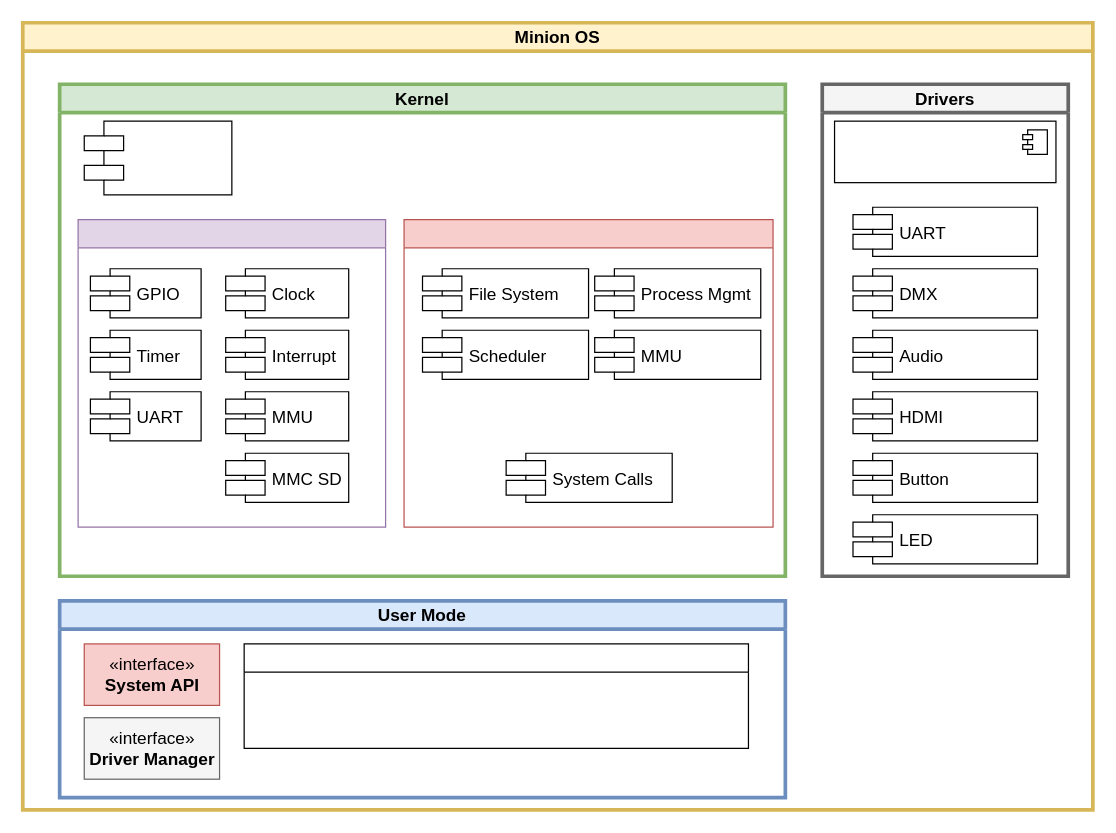
Some shapes in this 1116 by 833 pixel diagram are drawn without their labels. Each missing label, with the box of its shape:
Apps: (243, 643, 748, 748)
Common: (83, 120, 232, 195)
Driver Manager: (833, 120, 1056, 183)
HAL: (77, 218, 386, 527)
System Modules: (403, 218, 773, 527)
